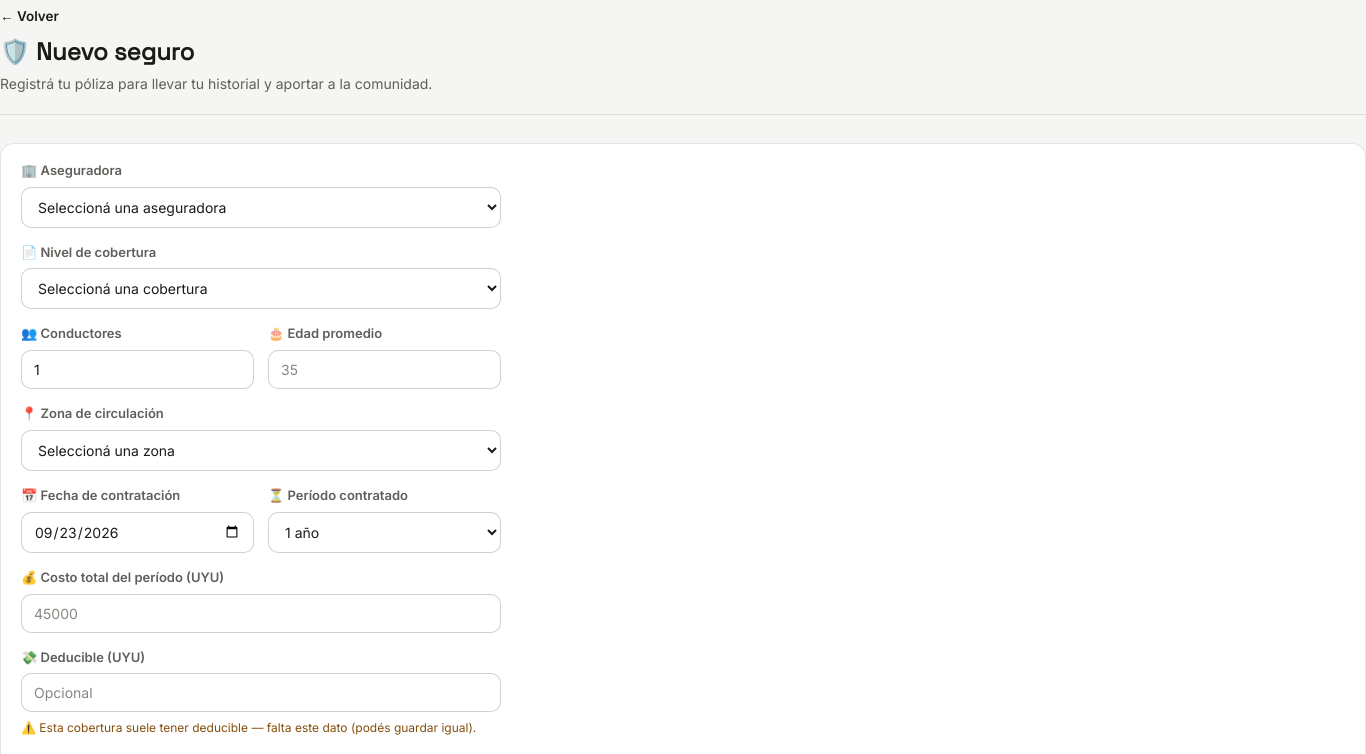
Test: NewInsuranceQuotePage › hides the deductible field only for "Todo Riesgo sin Deducible", the one tier that structurally has none
Check: the field labelled "💸 Deducible (UYU)" is shown, box [21,673,501,712]
Step 1. Select "Todo Riesgo sin Deducible" in the dropdown labelled "📄 Nivel de cobertura" → (261, 289), box [21,268,501,309]
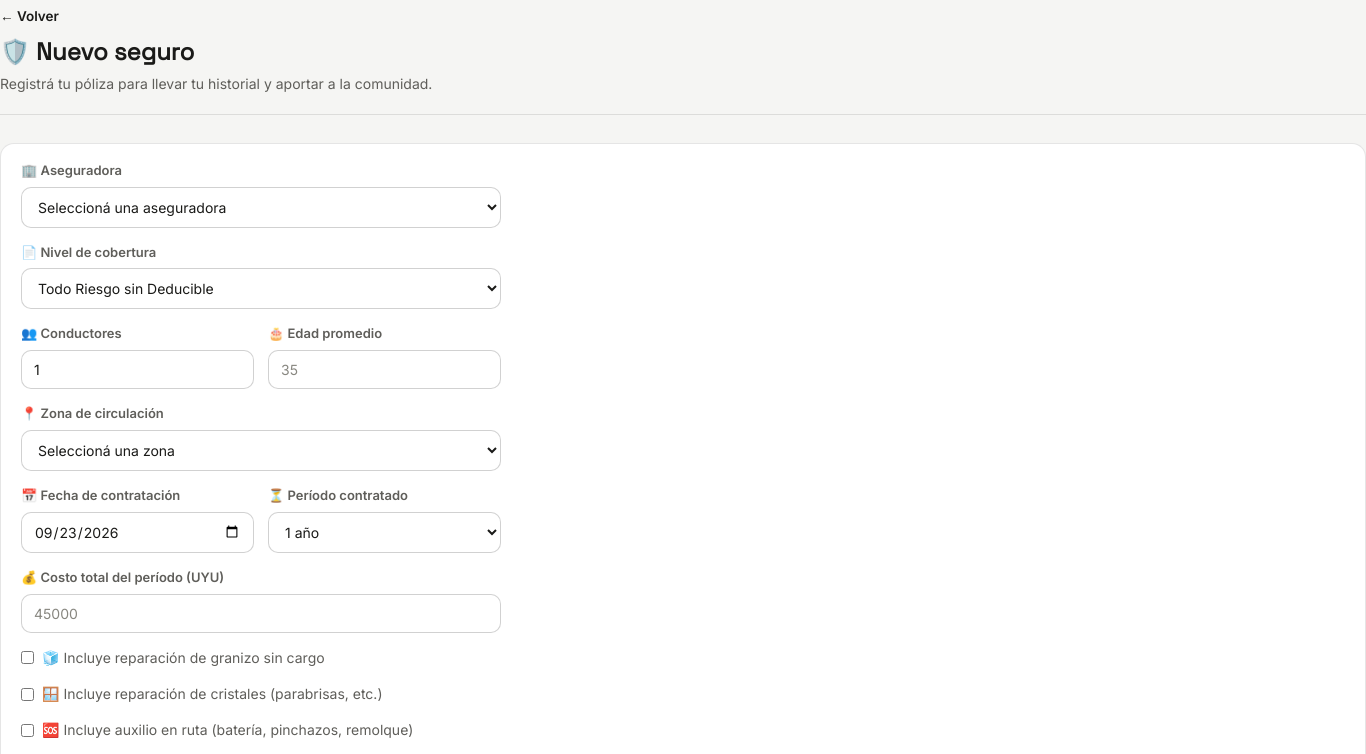
Check: the label labelled "💸 Deducible (UYU)" is gone
Step 2. Select "Responsabilidad Civil (Terceros)" in the dropdown labelled "📄 Nivel de cobertura" → (261, 289), box [21,268,501,309]
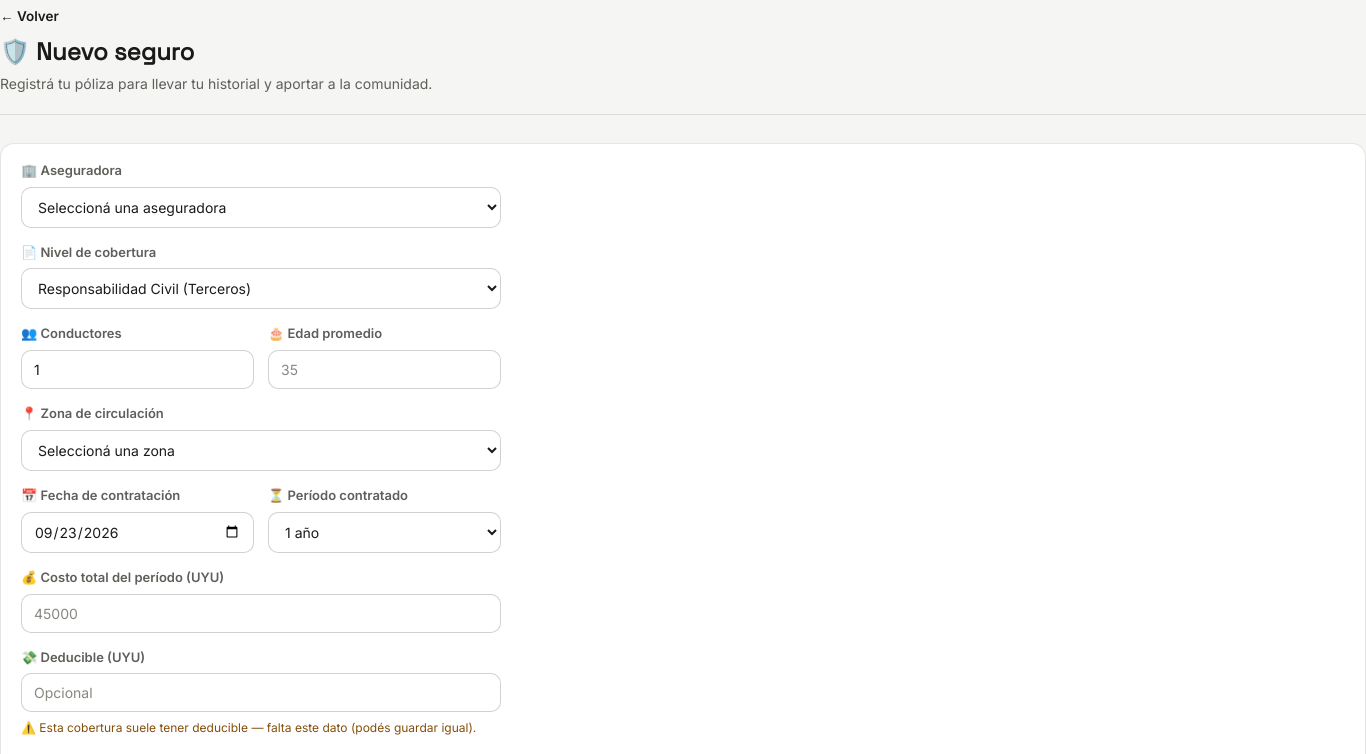
Check: the field labelled "💸 Deducible (UYU)" is shown, box [21,673,501,712]
